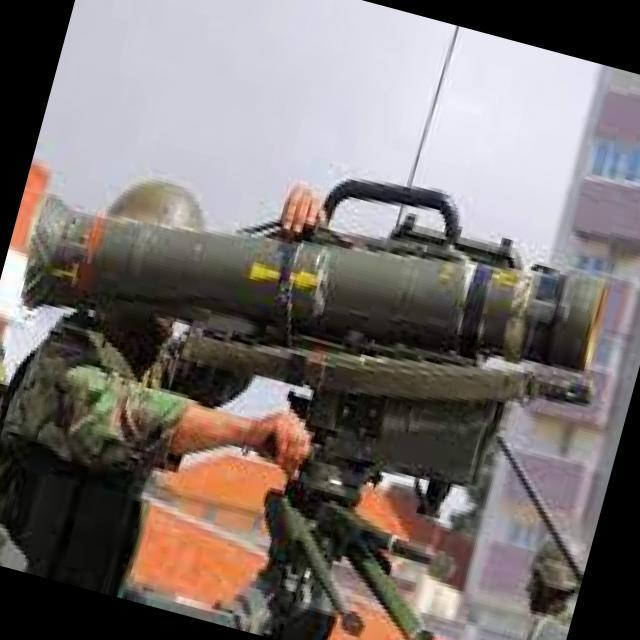rocket: (21, 130, 608, 442)
